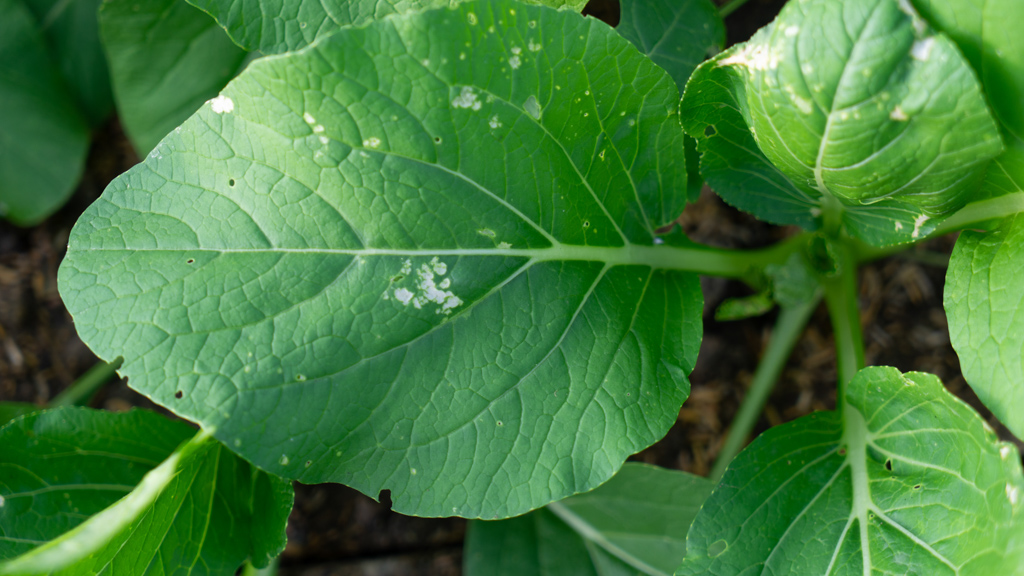Canker: (443, 33, 553, 133), (375, 250, 483, 325), (289, 104, 388, 162), (715, 21, 795, 80), (988, 442, 1021, 512), (775, 84, 818, 117), (202, 88, 236, 127), (894, 206, 934, 237)
